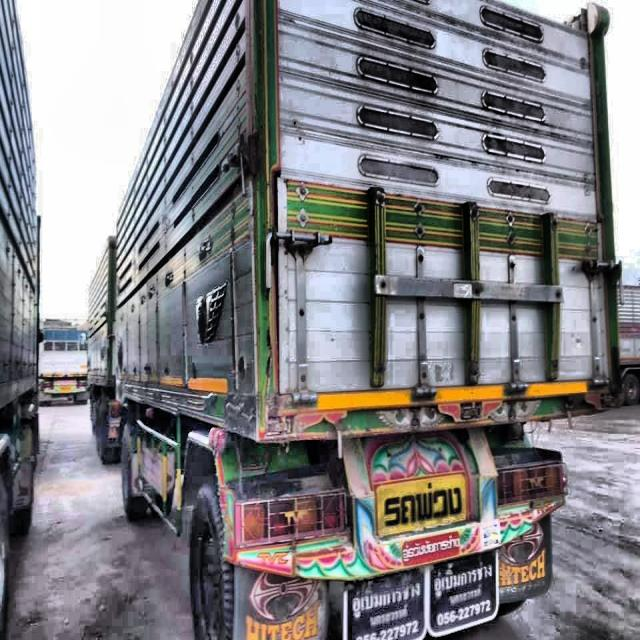trailer: (67, 0, 620, 636)
